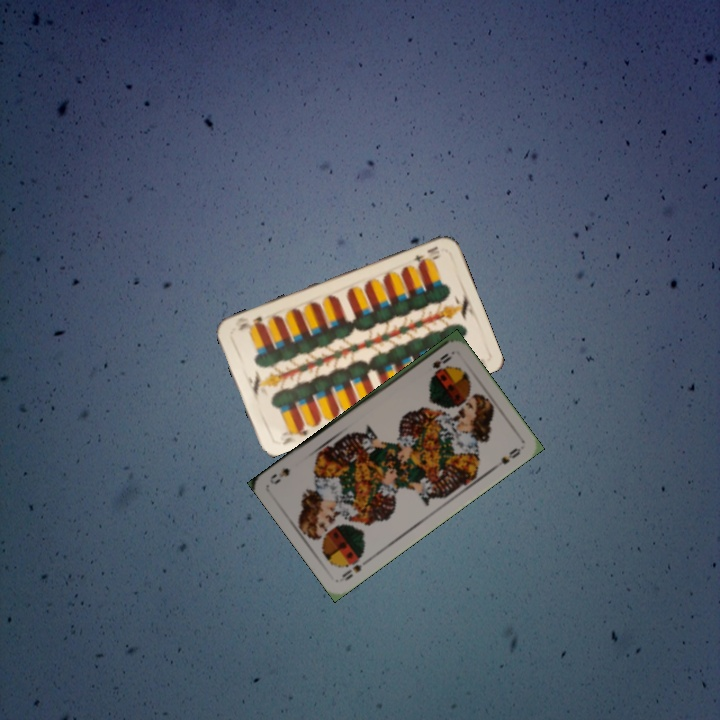E10: (278, 420, 310, 448), (410, 242, 441, 266)
SO: (338, 552, 366, 583), (428, 349, 454, 371)
